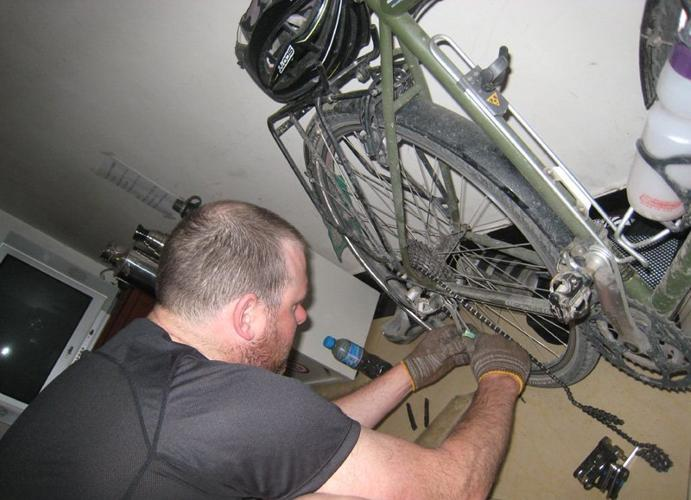person: (3, 199, 535, 500)
